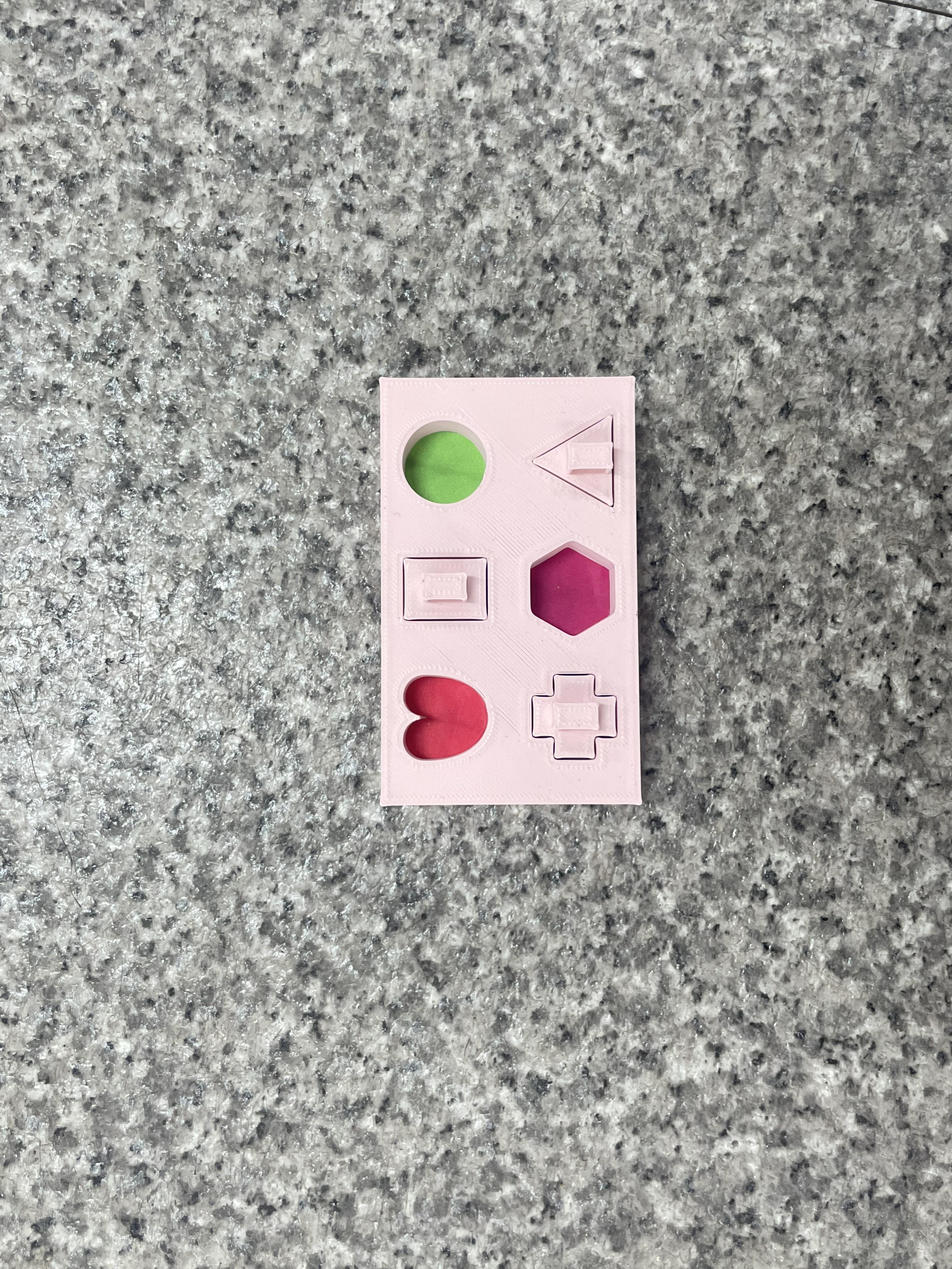unsolved: (365, 356, 662, 822)
